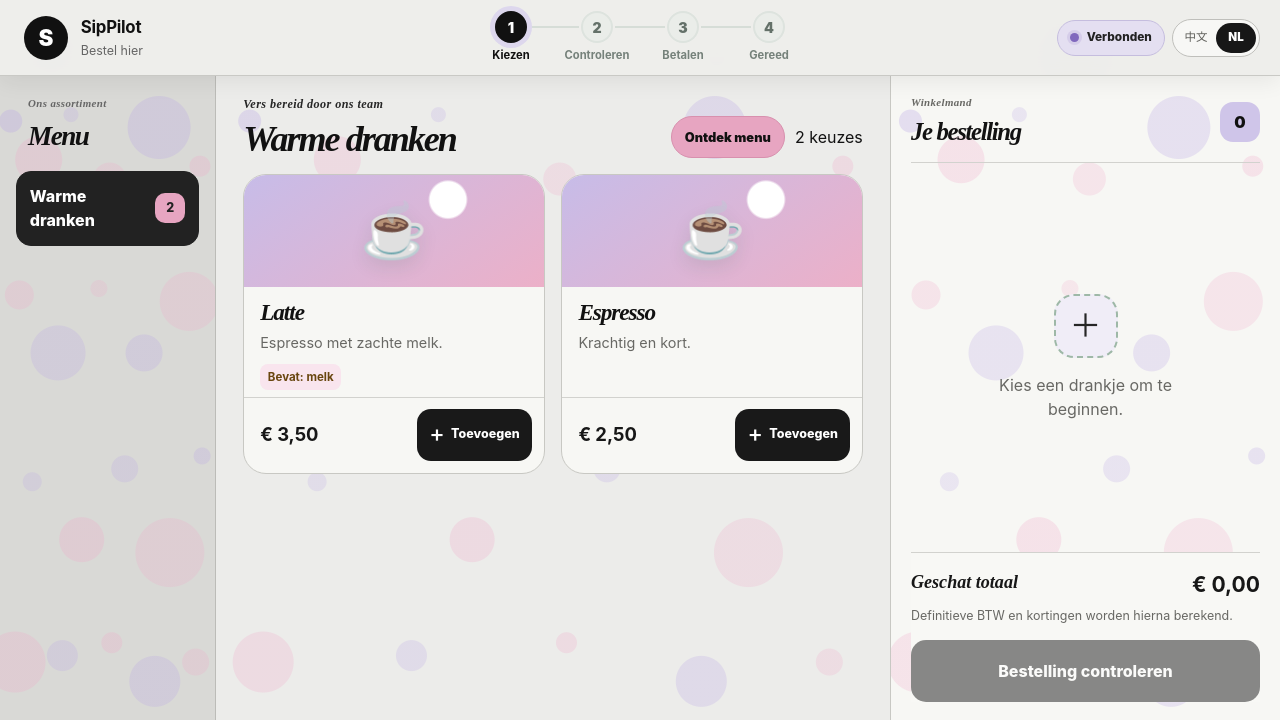
Test: Customer kiosk ordering workflow › quotes the configured cart and renders authoritative tax totals
This screenshot has width=1280, height=720.
Expected: the heading "Warme dranken" is shown, [243, 121, 456, 158]
Click the button with aria-label "Latte toevoegen": point(474, 435) [417, 409, 532, 461]
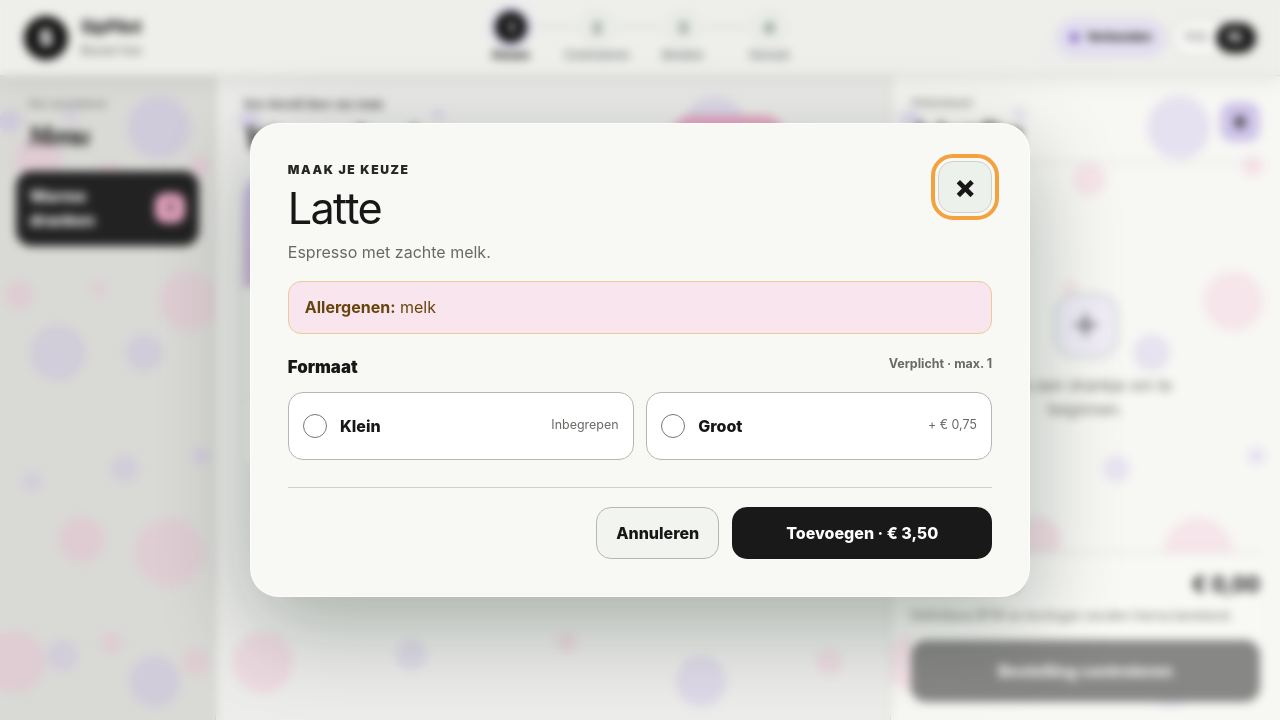
Click the radio button labelled "Groot + € 0,75": point(673, 426) [661, 414, 685, 438]
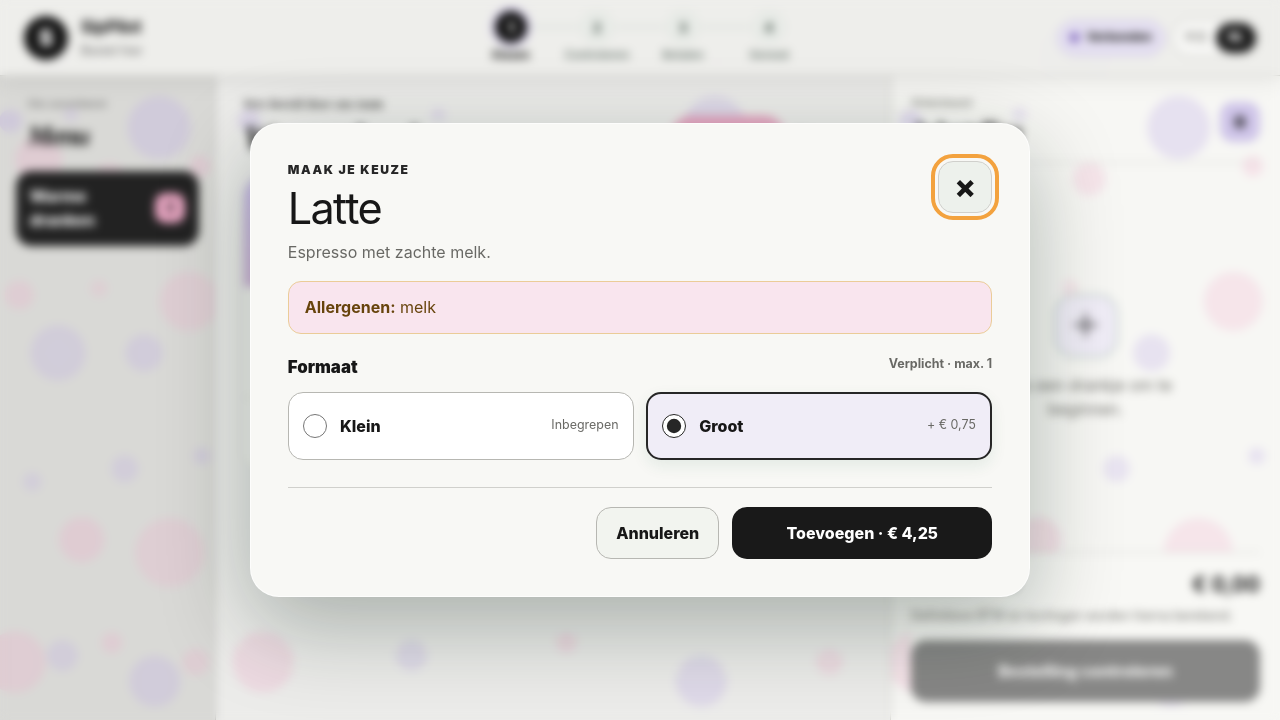
Click the button "Toevoegen · € 4,25": point(862, 533) [732, 507, 992, 559]
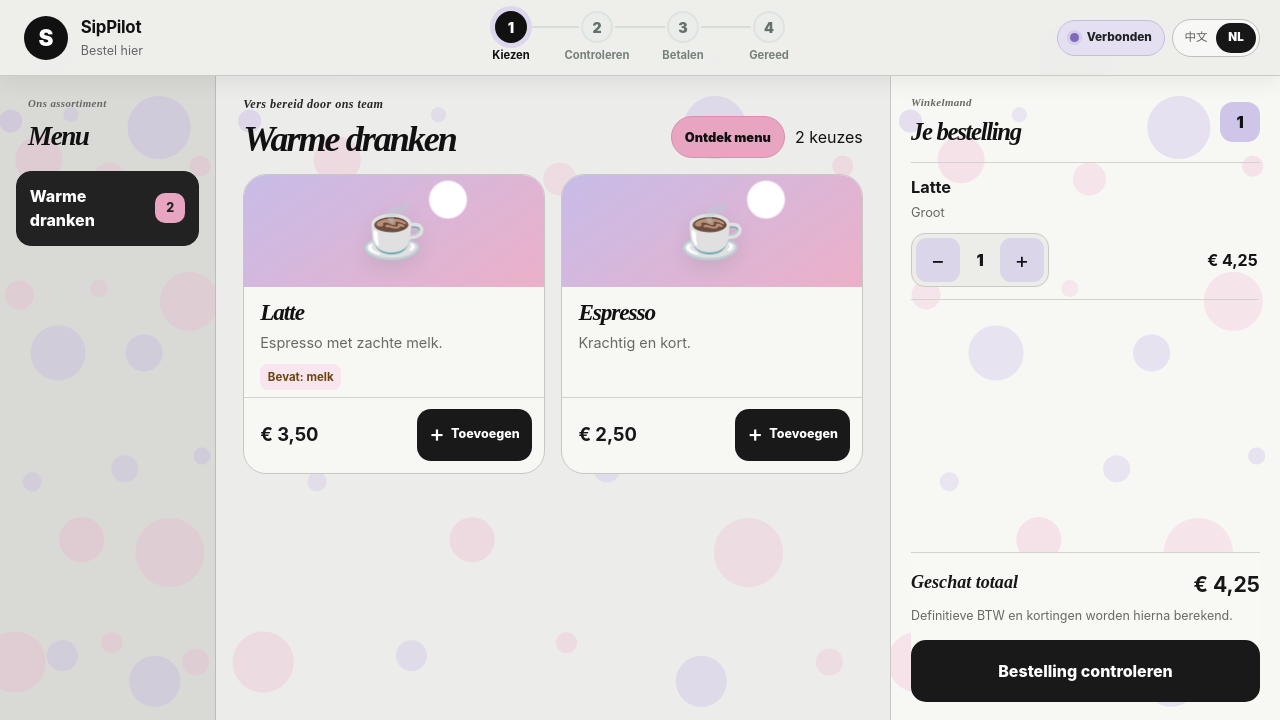
Now the 1st text "€ 4,25" is shown, box [1207, 248, 1258, 272]
Click the button "Bestelling controleren": point(1086, 671) [911, 640, 1260, 702]
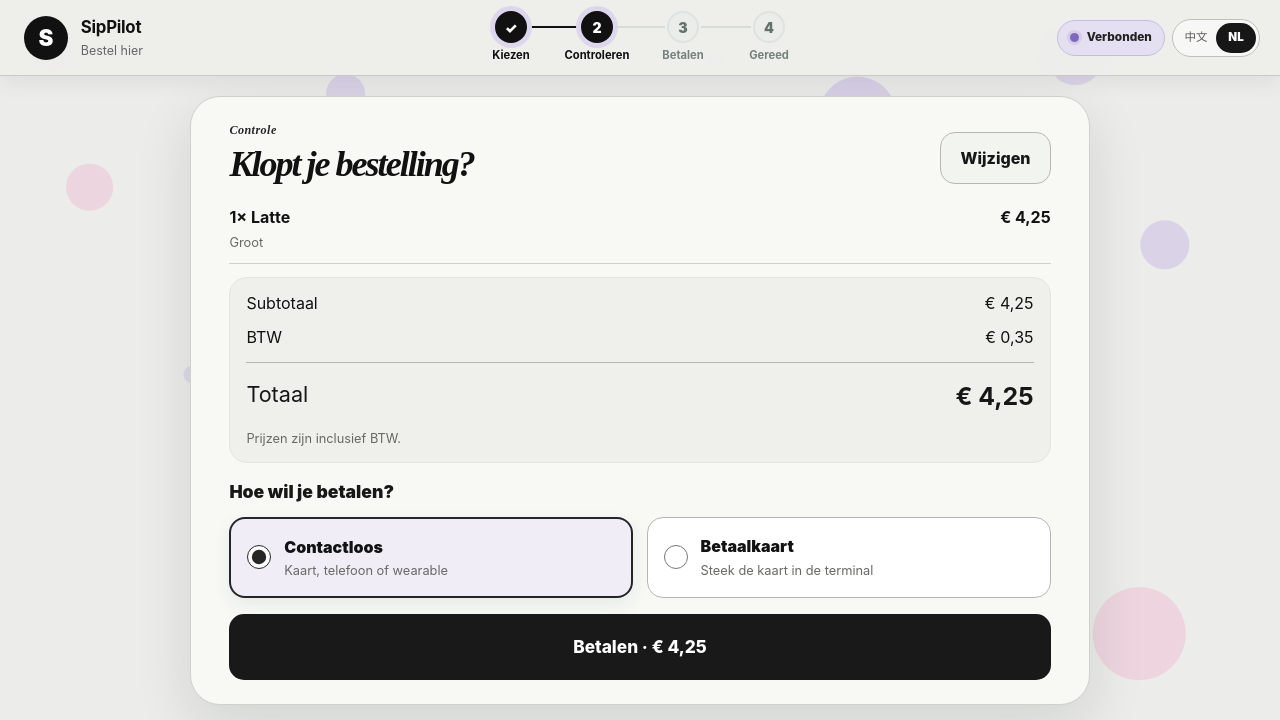
Now the heading "Klopt je bestelling?" is shown, box [229, 146, 474, 184]
Now the text "Prijzen zijn inclusief BTW." is shown, box [246, 431, 401, 446]
Now the text "€ 0,35" is shown, box [985, 325, 1034, 349]
